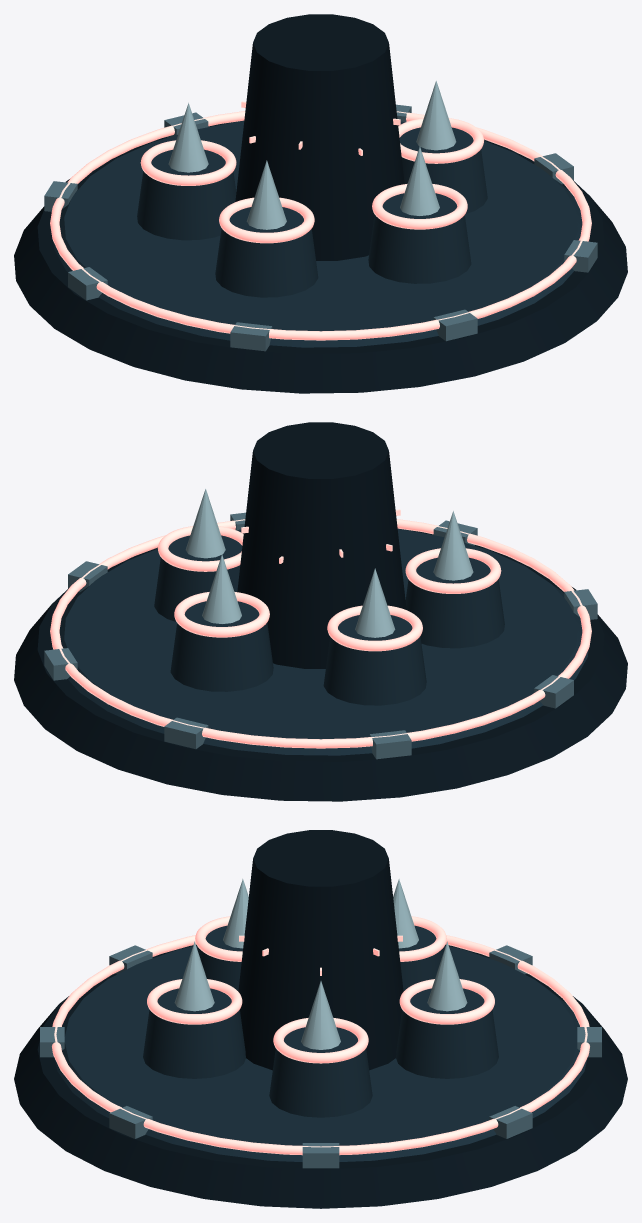
The model's file is missileSilo.glb.
3 views of the same model, one above another, from view 1: azimuth 30°, elevation 25°; view 2: azimuth 150°, elevation 25°; view 3: azimuth 270°, elevation 25° (orthographic).
Parts seen in each view (by area): view 1: upper-deck, armored-foundation, command-bunker, perimeter-light, detail (×4), silo-2, silo-1, silo-3, silo-0, missile-3, missile-0, missile-2 (+7 smaller); view 2: upper-deck, armored-foundation, command-bunker, perimeter-light, detail (×4), silo-3, silo-4, silo-2, silo-0, missile-2, missile-0, missile-3 (+7 smaller); view 3: upper-deck, armored-foundation, command-bunker, perimeter-light, detail (×5), silo-0, silo-1, silo-4, missile-1, missile-4, missile-0, silo-2 (+10 smaller).
Part boxes in pixels (x1,y1,x2,y2): upper-deck: (53, 121, 589, 347); armored-foundation: (14, 120, 627, 393); command-bunker: (235, 14, 404, 260); perimeter-light: (50, 111, 591, 340); detail (×4): (140, 118, 484, 243); silo-2: (215, 207, 318, 297); silo-1: (368, 193, 471, 283); silo-3: (137, 149, 236, 240); silo-0: (399, 127, 487, 213); missile-3: (168, 103, 208, 172); missile-0: (416, 81, 456, 150); missile-2: (246, 160, 286, 229); upper-deck: (52, 529, 588, 755); armored-foundation: (14, 528, 627, 801); command-bunker: (237, 422, 406, 668); perimeter-light: (50, 519, 591, 748); detail (×4): (157, 526, 501, 651); silo-3: (323, 615, 426, 705); silo-4: (170, 601, 273, 691); silo-2: (405, 557, 504, 648); silo-0: (154, 535, 242, 621); missile-2: (433, 511, 473, 580); missile-0: (185, 489, 225, 558); missile-3: (355, 568, 395, 637); upper-deck: (54, 945, 587, 1161); armored-foundation: (14, 944, 627, 1208); command-bunker: (238, 830, 403, 1070); perimeter-light: (52, 935, 589, 1155); detail (×5): (147, 916, 494, 1063); silo-0: (269, 1027, 372, 1117); silo-1: (143, 988, 245, 1078); silo-4: (396, 988, 498, 1078); missile-1: (174, 941, 214, 1011); missile-4: (427, 941, 467, 1011); missile-0: (301, 981, 340, 1049); silo-2: (197, 925, 242, 990).
Size of the model in its own units: 10.4 by 4.13 by 10.4.
